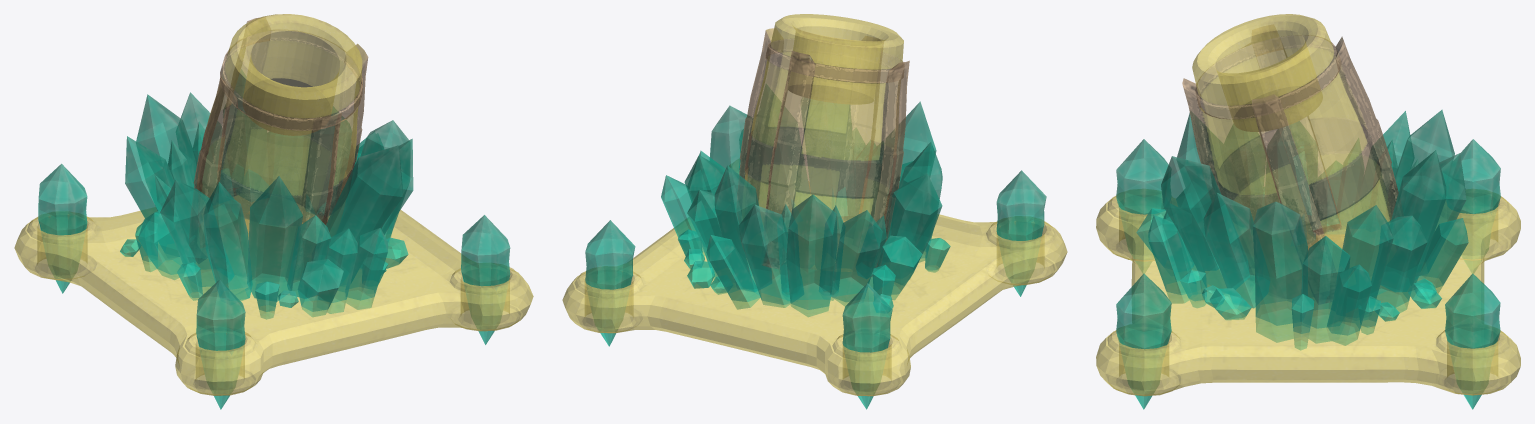
The model's file is drorania_cannon.obj.
3 views of the same model, side by side, from view 1: azimuth 30°, elevation 25°; view 2: azimuth 150°, elevation 25°; view 3: azimuth 270°, elevation 25° (orthographic). The views are drawn at different scales.
Parts seen in each view (by area): view 1: drorania_cannon; view 2: drorania_cannon; view 3: drorania_cannon.
Part boxes in pixels (left/top/right/bottom): drorania_cannon: left=14, top=14, right=533, bottom=409; drorania_cannon: left=562, top=14, right=1067, bottom=409; drorania_cannon: left=1096, top=14, right=1520, bottom=409.
Size of the model in its own units: 64.24 by 53.22 by 65.47.
1 material, 1 textured.
